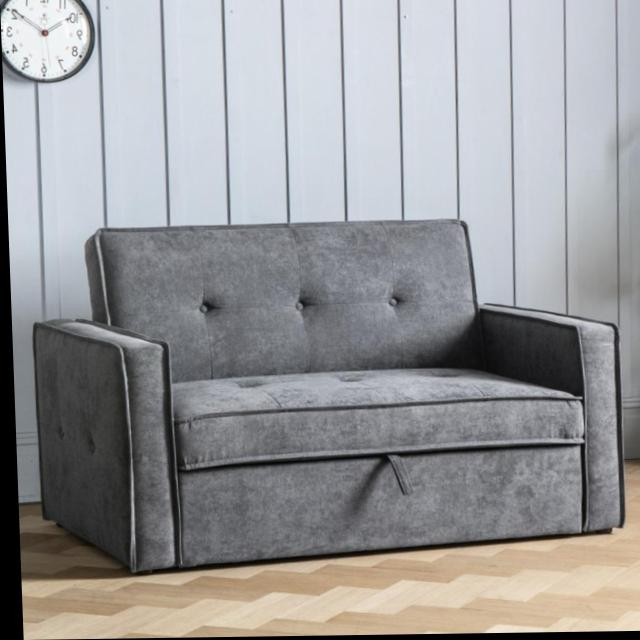Sofa: (26, 220, 626, 574)
